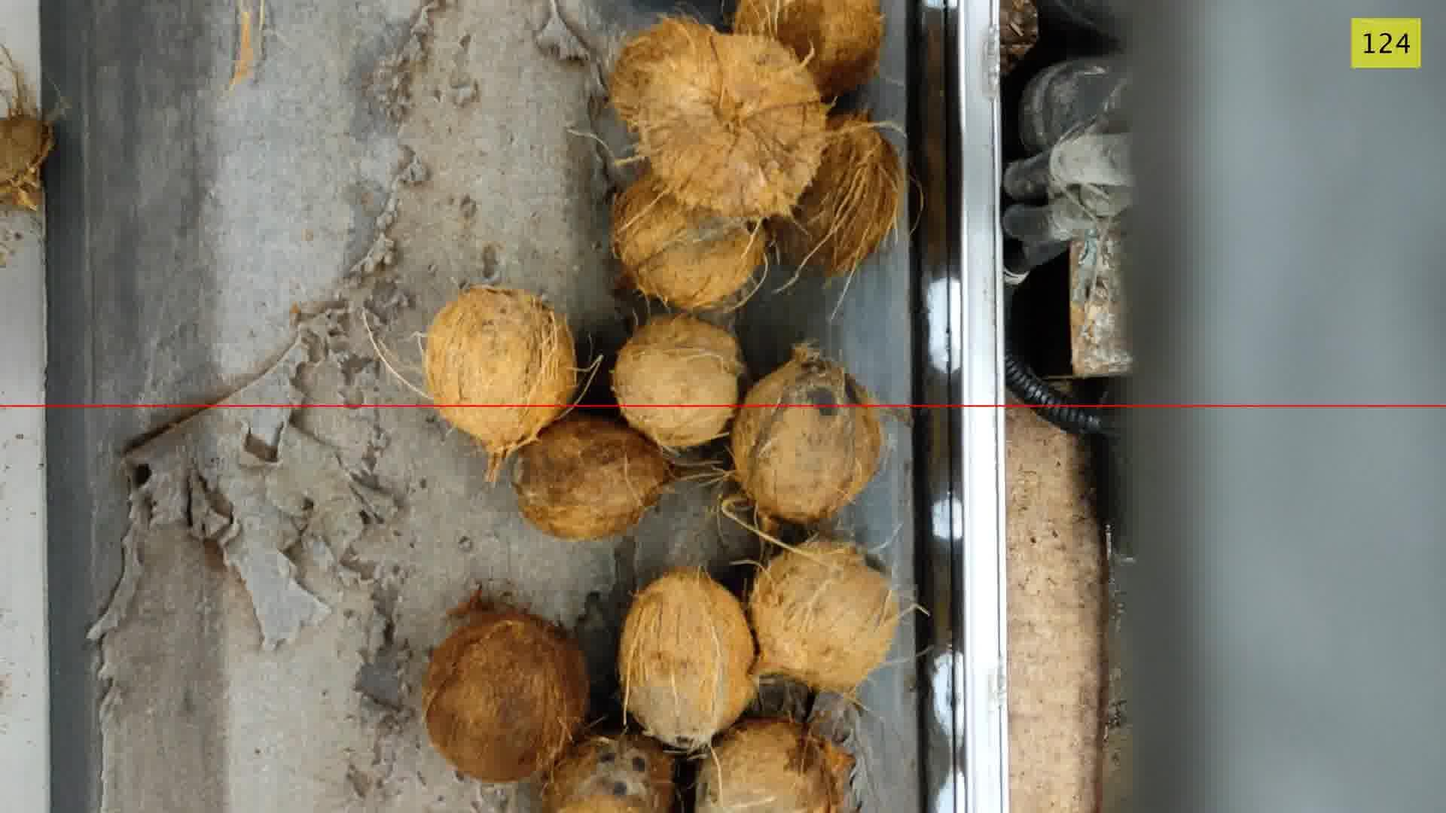Coconut: (609, 19, 827, 217), (422, 608, 588, 781), (730, 346, 882, 524), (424, 286, 577, 450), (618, 568, 755, 751), (746, 535, 899, 693), (611, 172, 768, 310), (773, 113, 905, 275), (512, 411, 672, 540), (612, 315, 743, 449), (734, 0, 883, 99), (695, 720, 850, 812), (543, 734, 674, 812), (0, 45, 53, 210), (0, 113, 53, 209), (548, 796, 651, 812)
